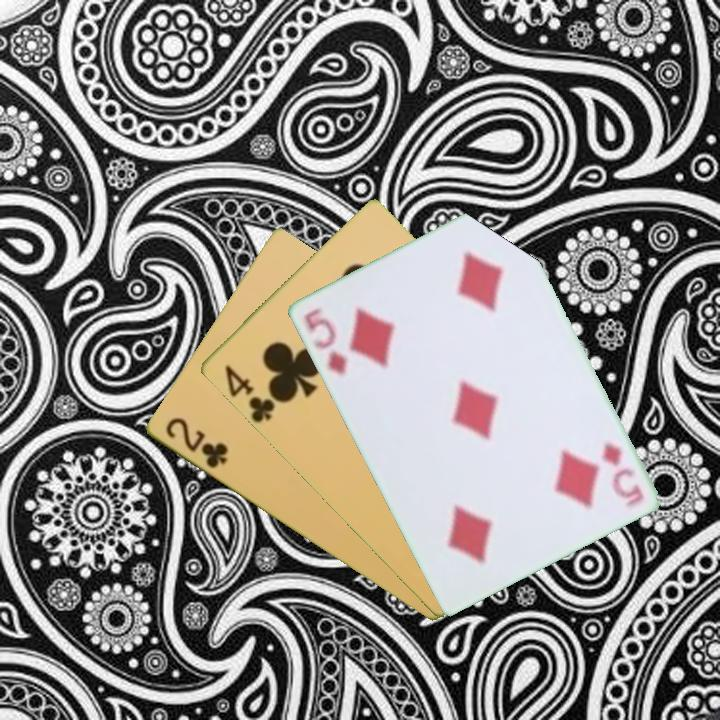2c: (161, 413, 231, 472)
4c: (220, 361, 278, 426)
5d: (300, 303, 350, 378), (597, 439, 647, 508)
